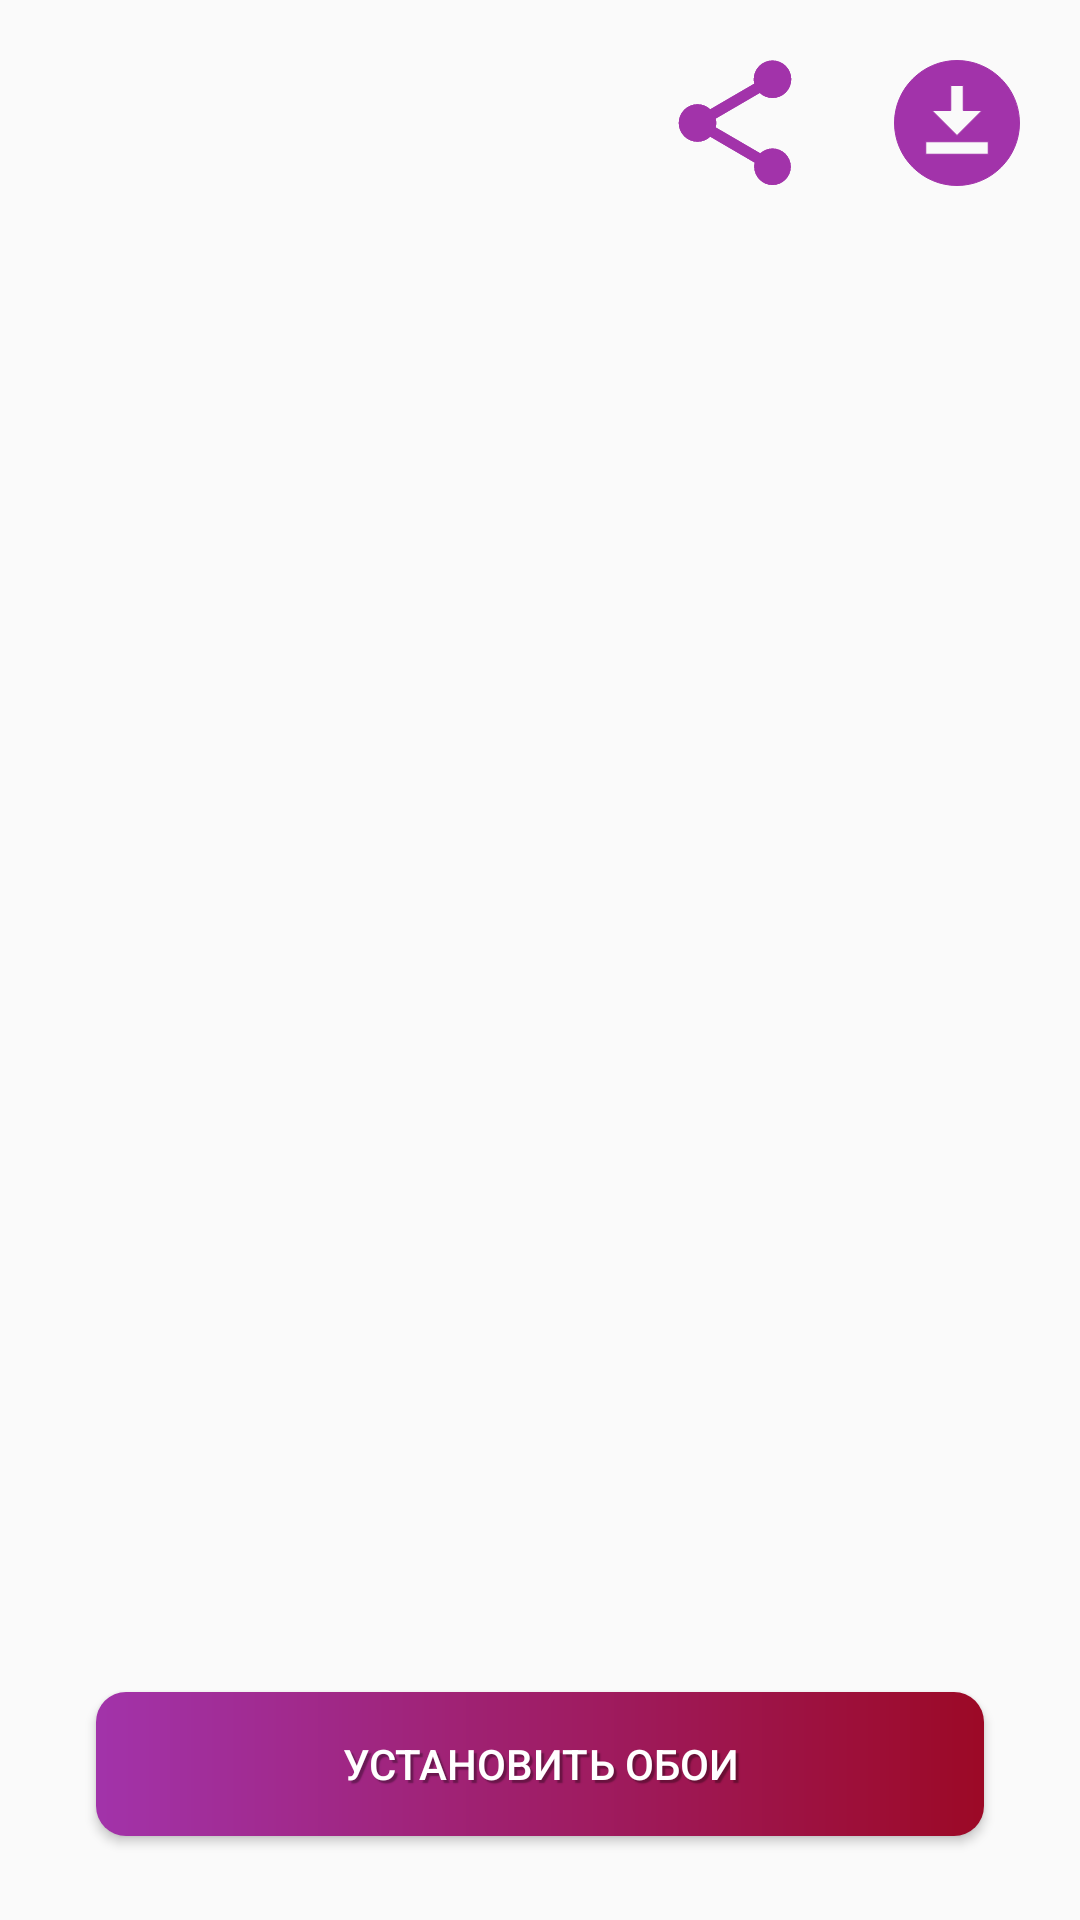

Screen size 1080*1920. Icon name, then its box in pixels as (x1, y1, x2, y2):
download for offline: (894, 60, 1020, 186)
share: (678, 60, 792, 185)
